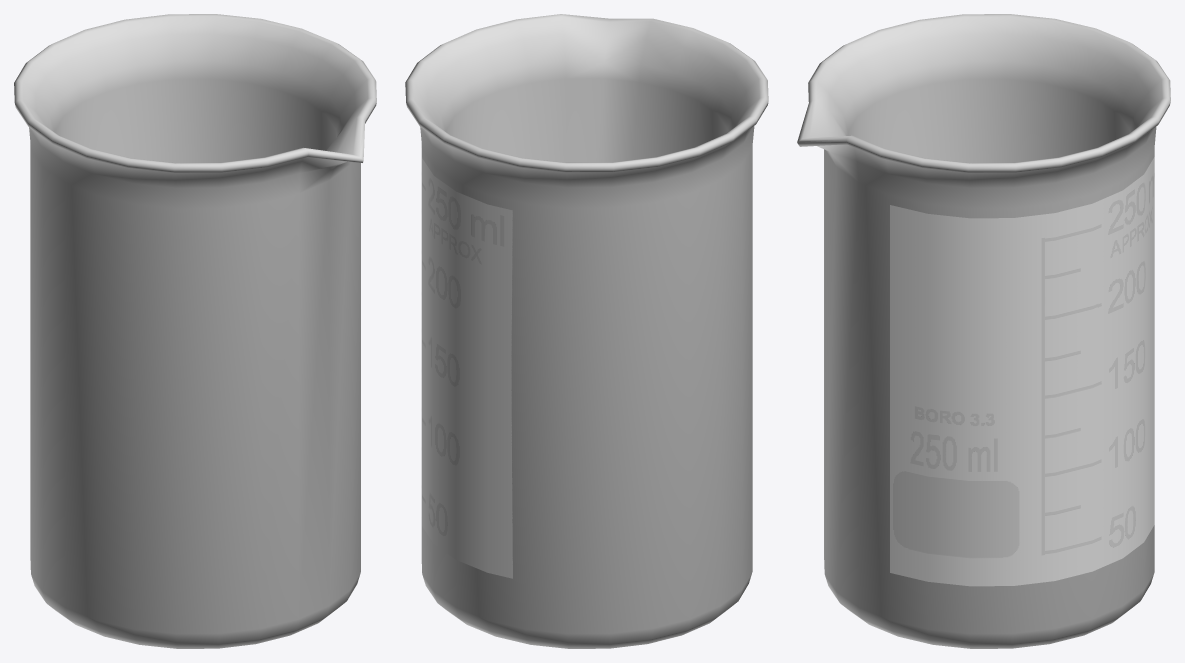
Rendered from Vaso 250ml.dae.
The picture shows the model from 3 angles, left to right: view 1: azimuth 30°, elevation 25°; view 2: azimuth 150°, elevation 25°; view 3: azimuth 270°, elevation 25°; orthographic projection.
Parts seen in each view (by area): view 1: Beaker 250ml; view 2: Beaker 250ml; view 3: Beaker 250ml.
Boxes of the visible parts, x1,y1,x2,y2 form: Beaker 250ml: (14, 14, 376, 648); Beaker 250ml: (405, 14, 768, 648); Beaker 250ml: (797, 14, 1170, 648).
Bounding box in the file's own units: 0.0761 × 0.0785 × 0.1155.
Materials: 2 (1 with a texture image).
